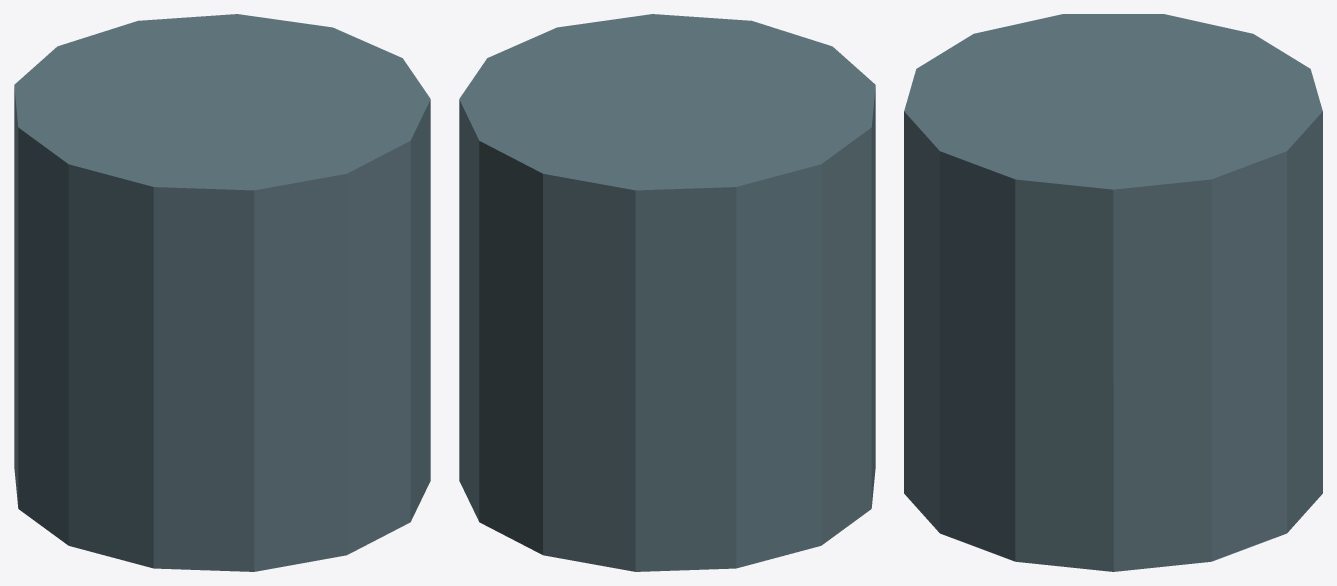
3 renders of one model, left to right at view 1: azimuth 30°, elevation 25°; view 2: azimuth 150°, elevation 25°; view 3: azimuth 270°, elevation 25°, orthographic.
Visible parts, largest first — view 1: Cylinder; view 2: Cylinder; view 3: Cylinder.
Boxes of the visible parts, bbox=[...] form: Cylinder: bbox=[14, 14, 430, 571]; Cylinder: bbox=[459, 14, 875, 571]; Cylinder: bbox=[904, 14, 1322, 571].
Size of the model in its own units: 1.97 by 2 by 1.99.
